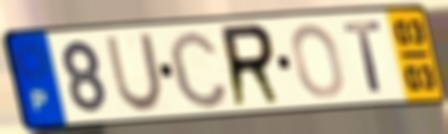8: (60, 37, 110, 117)
C: (165, 27, 232, 111)
O: (288, 21, 346, 101)
R: (218, 21, 286, 112)
T: (340, 18, 386, 95)
U: (102, 31, 166, 115)
